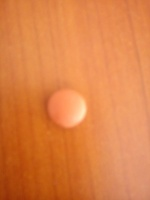Dolorex: (46, 87, 89, 131)
